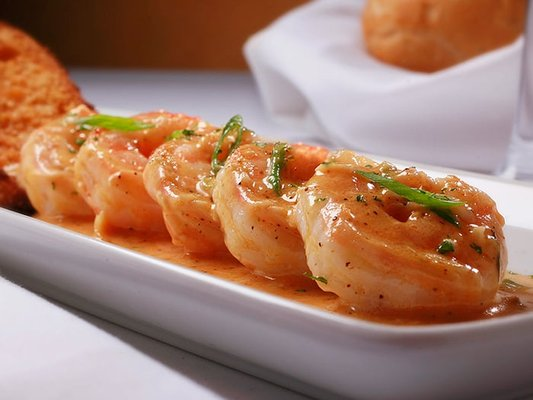pizza: (493, 1, 533, 180)
sushi: (2, 44, 528, 400)
